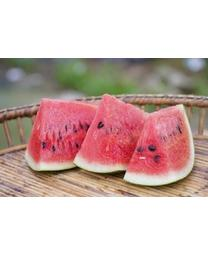watermelon: (24, 95, 195, 186)
